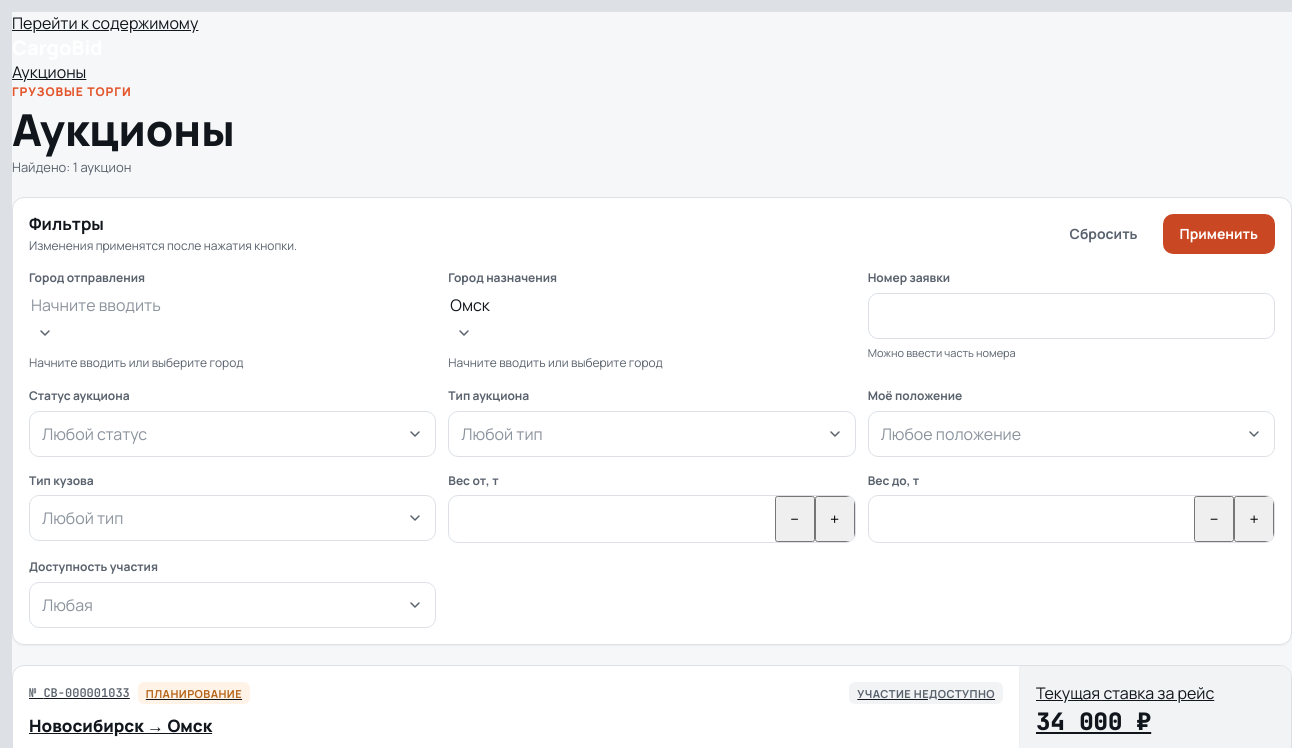
Test: auction list › clears the URL, form and applied result on reset
Expected: the text "Найдено: 1 аукцион" is shown, [12, 158, 131, 176]
Click the button "Сбросить".
click(1104, 234)  # box [1053, 214, 1155, 254]
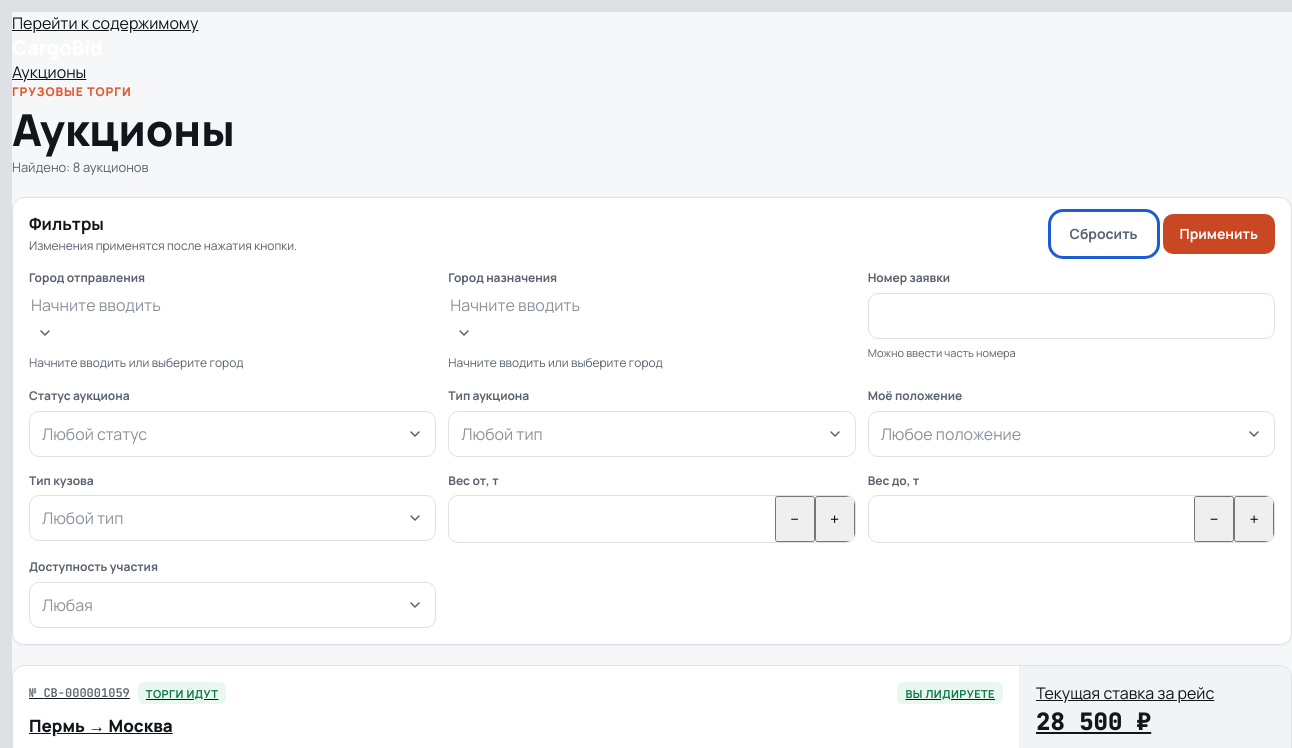
Expected: the text "Найдено: 8 аукционов" is shown, [12, 158, 148, 176]
Expected: the dropdown labelled "Город назначения" is empty, [448, 293, 643, 317]
